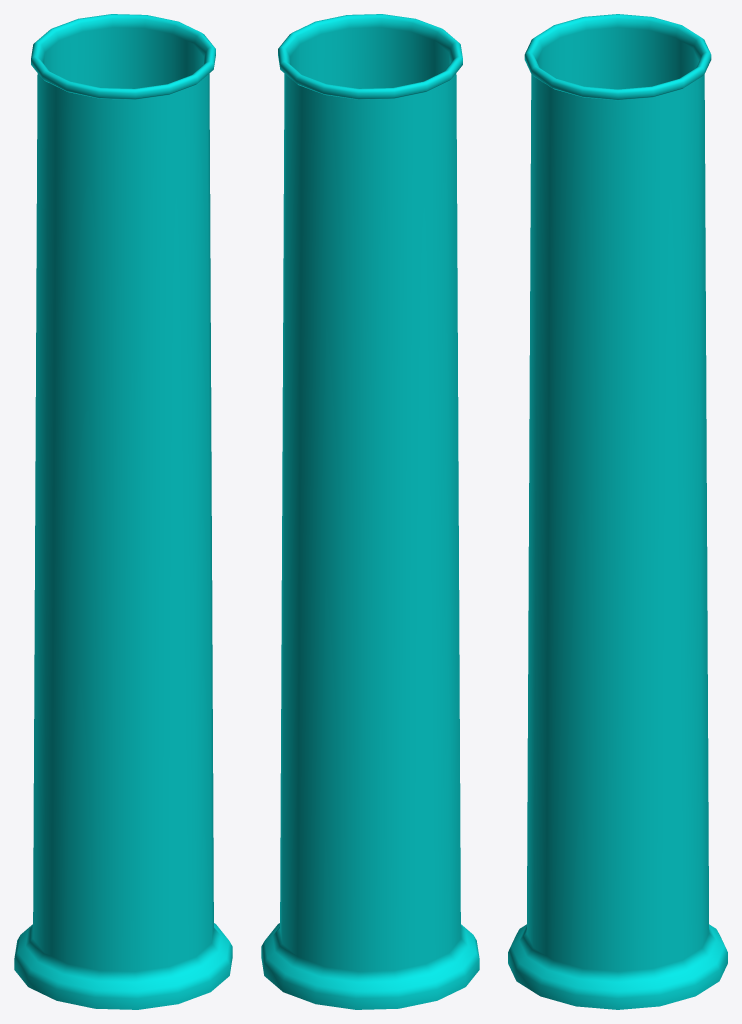
The model's file is SM_Flask5.fbx.
3 renders of one model, left to right at view 1: azimuth 30°, elevation 25°; view 2: azimuth 150°, elevation 25°; view 3: azimuth 270°, elevation 25°, orthographic.
Parts seen in each view (by area): view 1: Flask5; view 2: Flask5; view 3: Flask5.
Boxes of the visible parts, left/top/right/bottom form: Flask5: left=14, top=14, right=232, bottom=1009; Flask5: left=261, top=14, right=479, bottom=1009; Flask5: left=508, top=14, right=727, bottom=1009.
Size of what is drawn, in the model's own units: 3.5 by 16 by 3.5.
